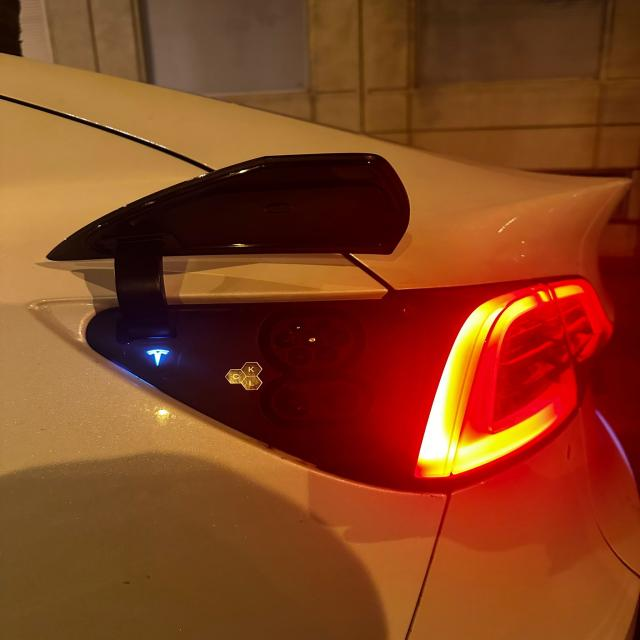inlet: (270, 316, 353, 370)
inlet-above-left: (289, 319, 307, 332)
inlet-above-right: (316, 319, 333, 331)
inlet-below-left: (288, 347, 312, 366)
inlet-below-right: (315, 346, 338, 364)
inlet-circle: (299, 330, 324, 348)
inlet-circle-left: (273, 331, 298, 348)
inlet-circle-right: (327, 330, 349, 346)
inlet-minus: (320, 385, 358, 415)
inlet-plus: (275, 388, 311, 417)
